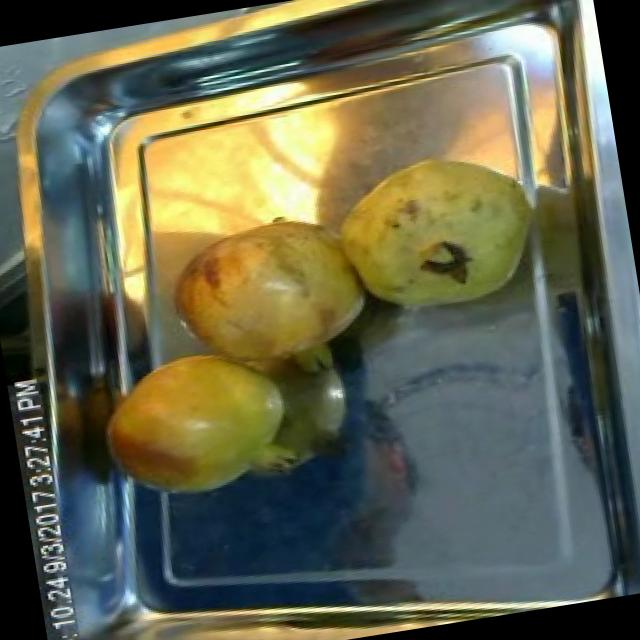fruit: (143, 198, 386, 408), (318, 134, 550, 332), (85, 329, 314, 515)
